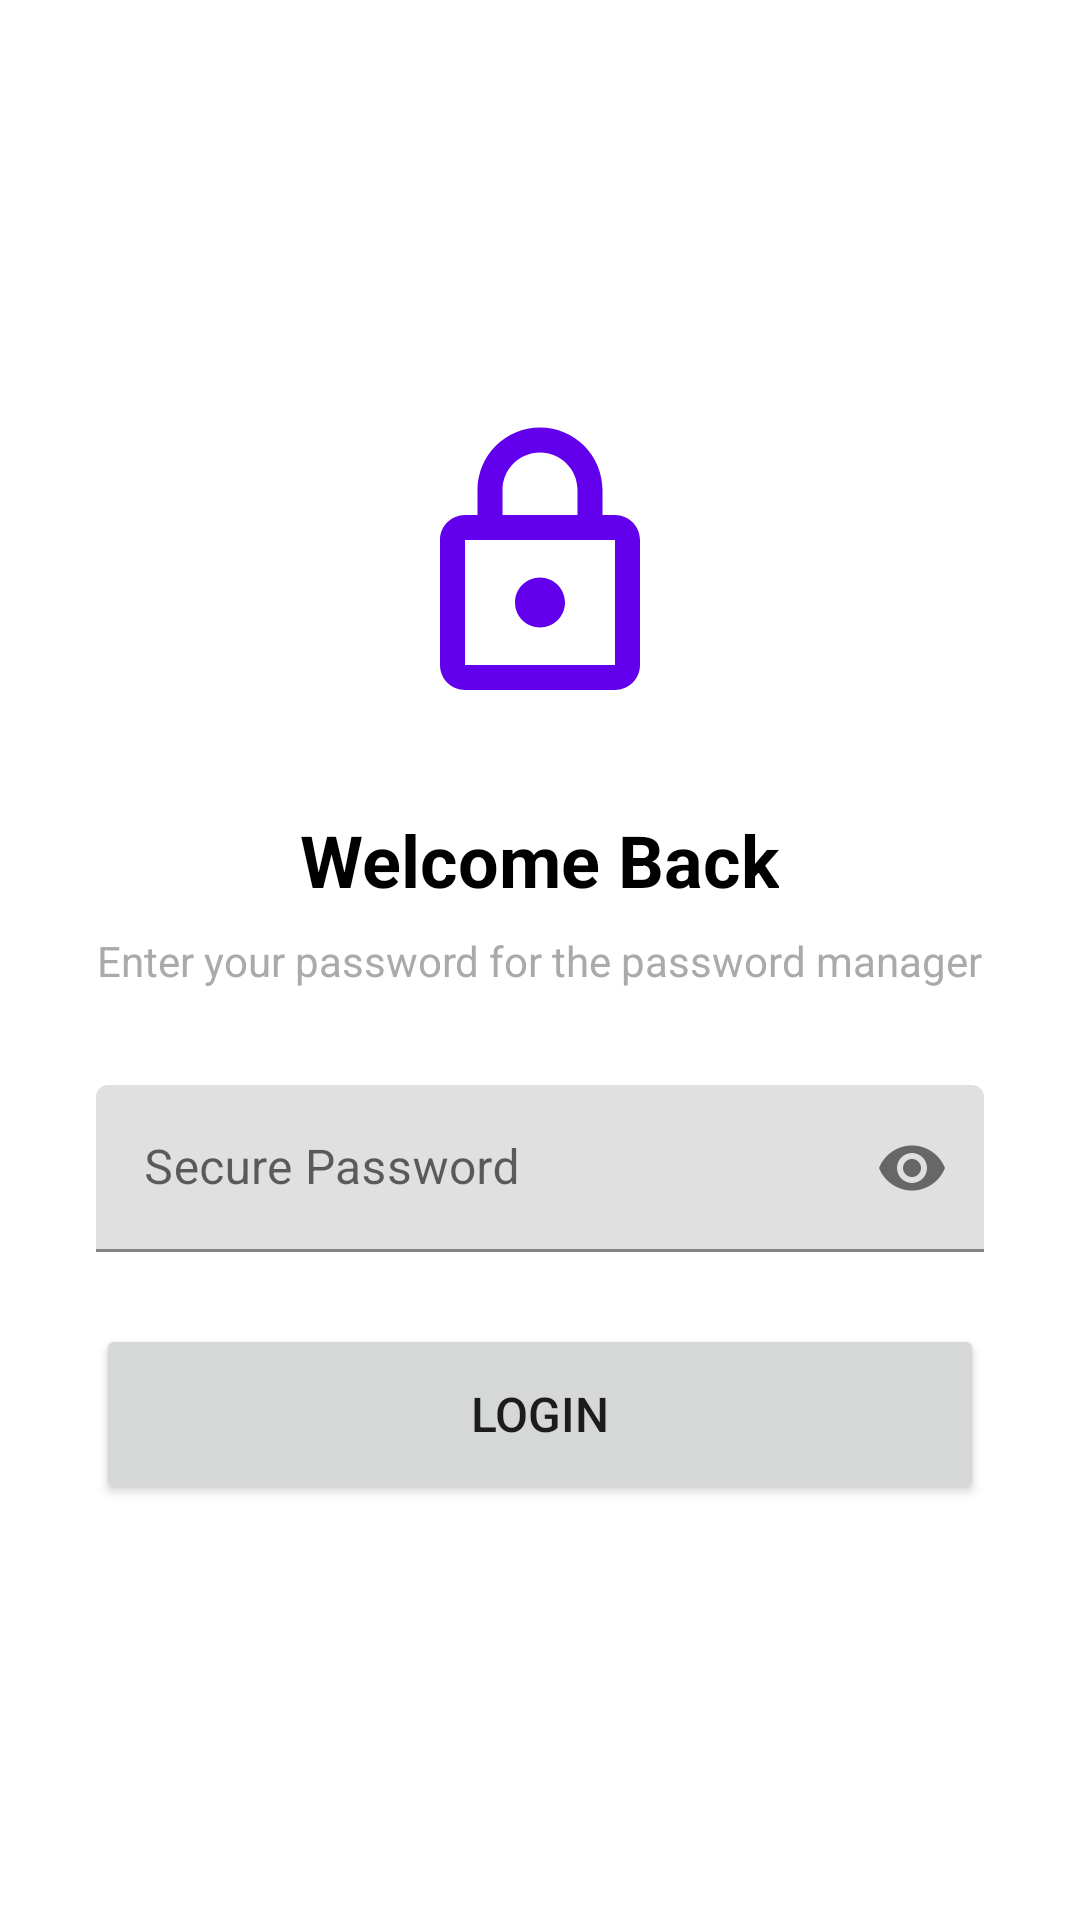

Where icons sit on this 1080w x 1920h app screen, as (x1, y1, x2, y2):
lock: (440, 427, 640, 690)
